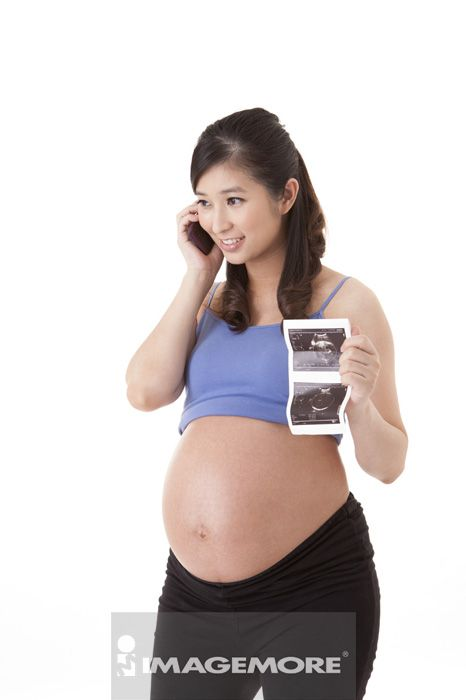talk: (178, 183, 263, 297)
